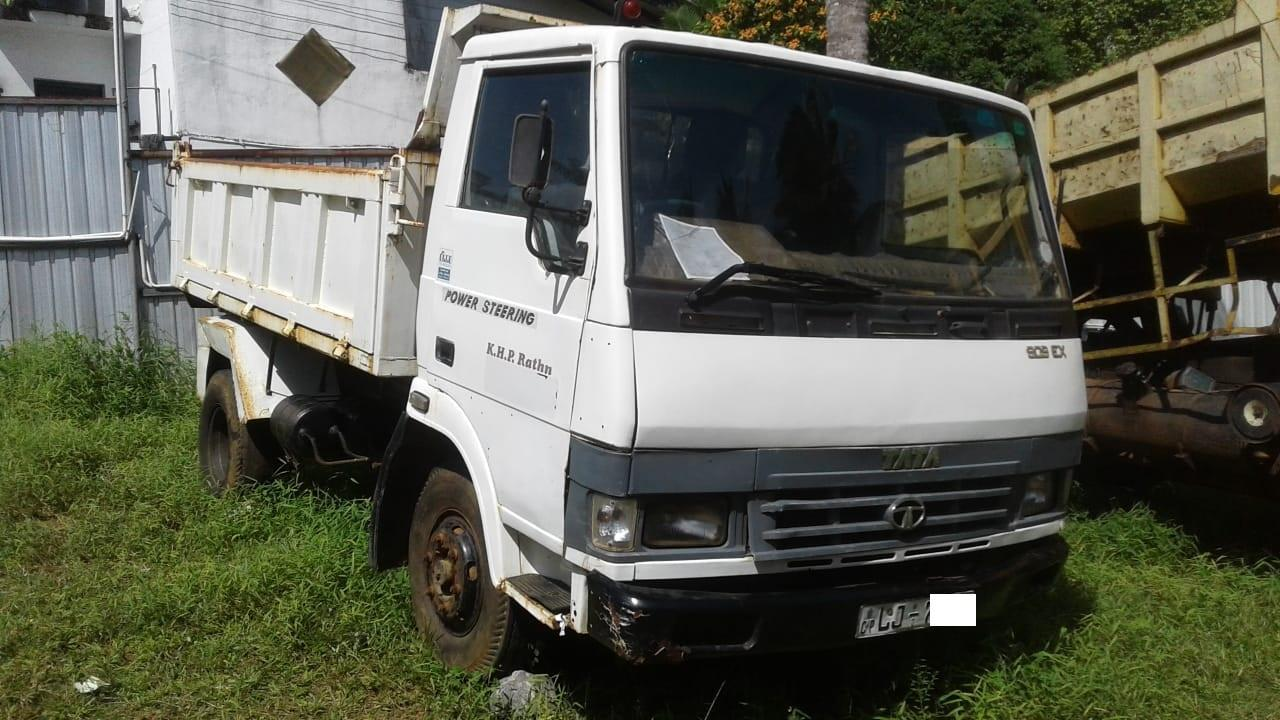truck: (168, 3, 1089, 684)
